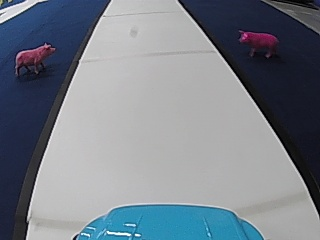pig: (12, 40, 55, 77), (236, 26, 279, 58)
